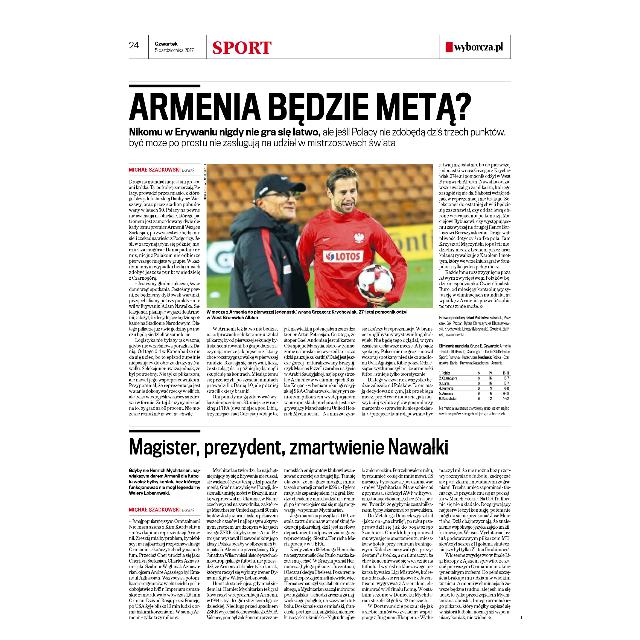article: (128, 82, 512, 420), (128, 428, 512, 622)
